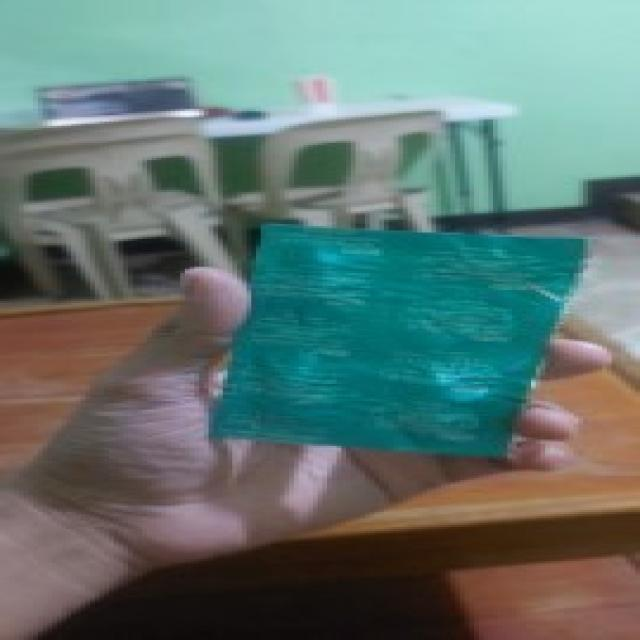Cacat: (208, 222, 592, 462)
